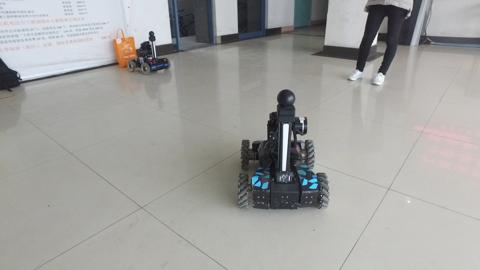bag: (110, 28, 137, 68)
chariot: (236, 88, 330, 211), (126, 29, 171, 77)
